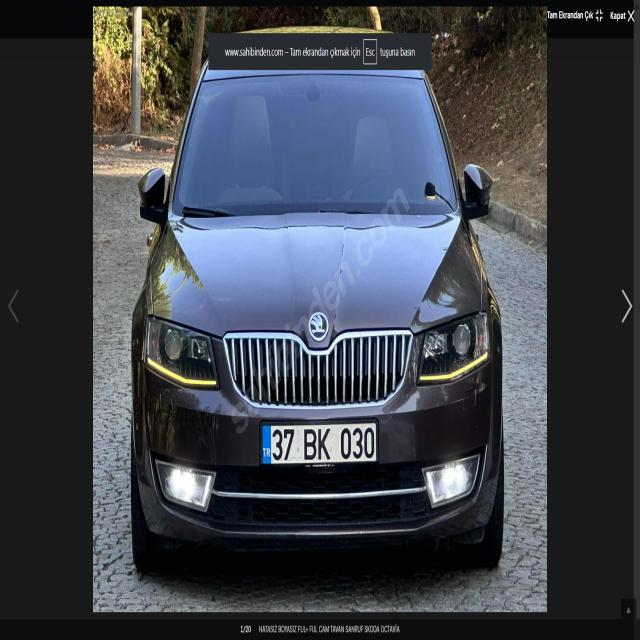skoda: (300, 299, 336, 354)
